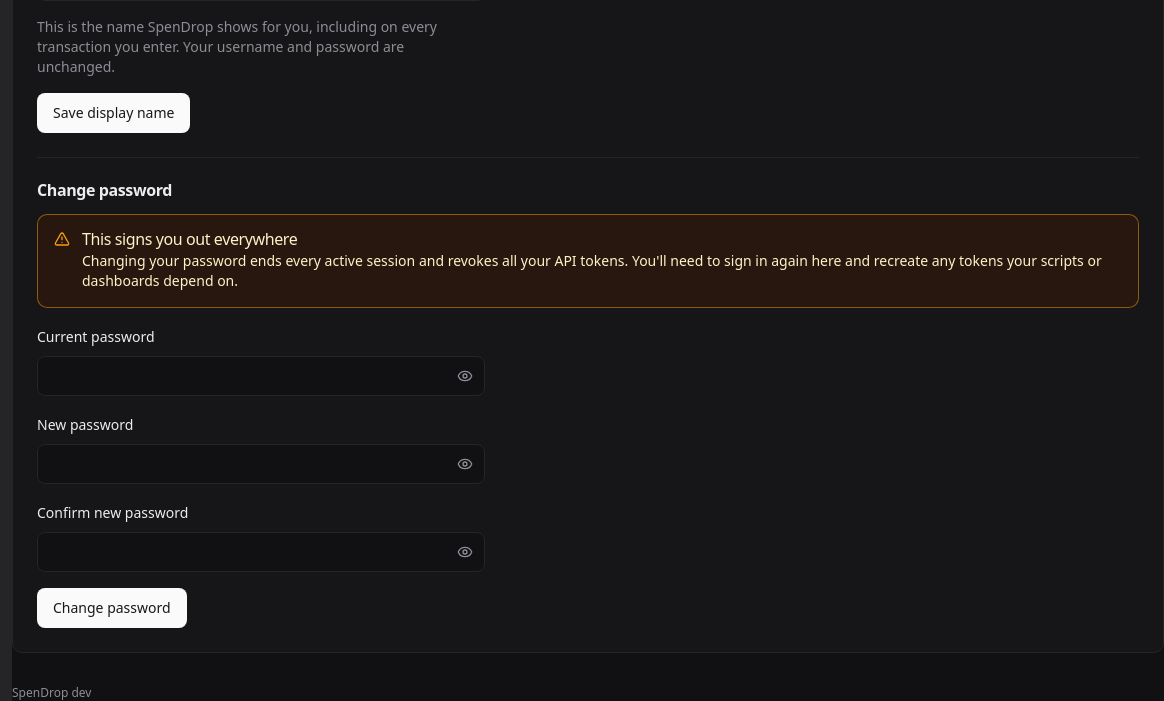
Test: Account tab — change password › shows a validation error when new and confirm do not match
(page scrolled)
In the password field labelled "Current password": (261, 376) [37,356,485,396], type "oldpass123"
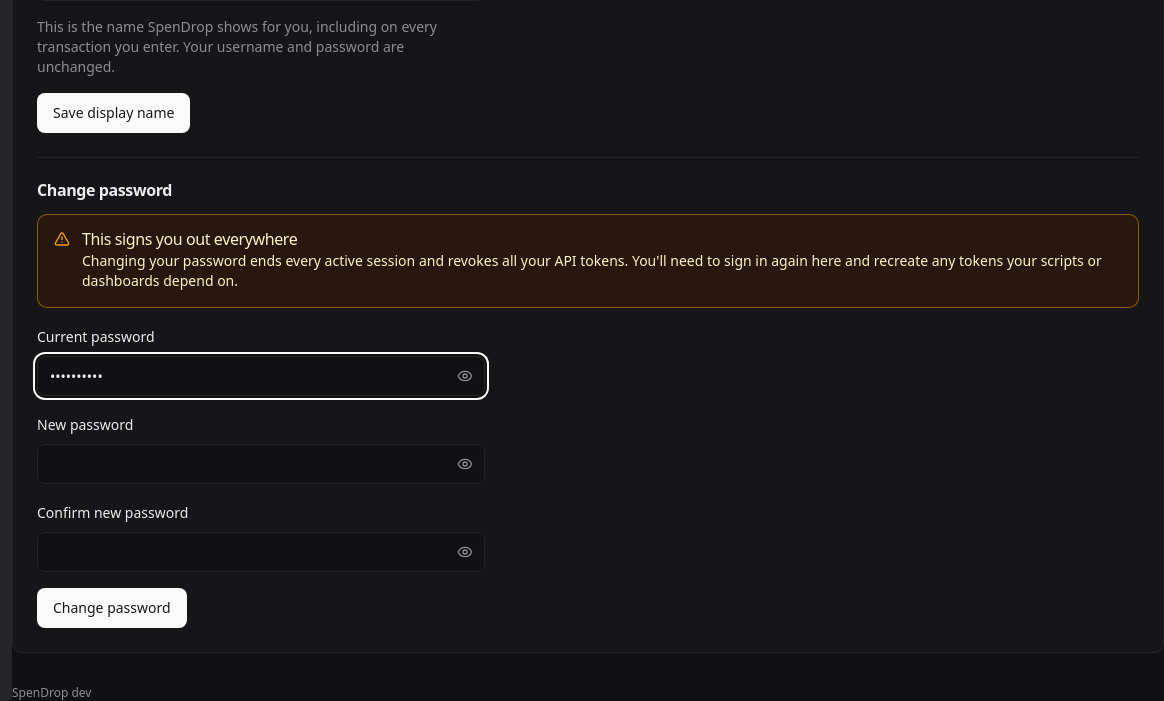
In the password field labelled "New password": (261, 464) [37,444,485,484], type "newpass123"
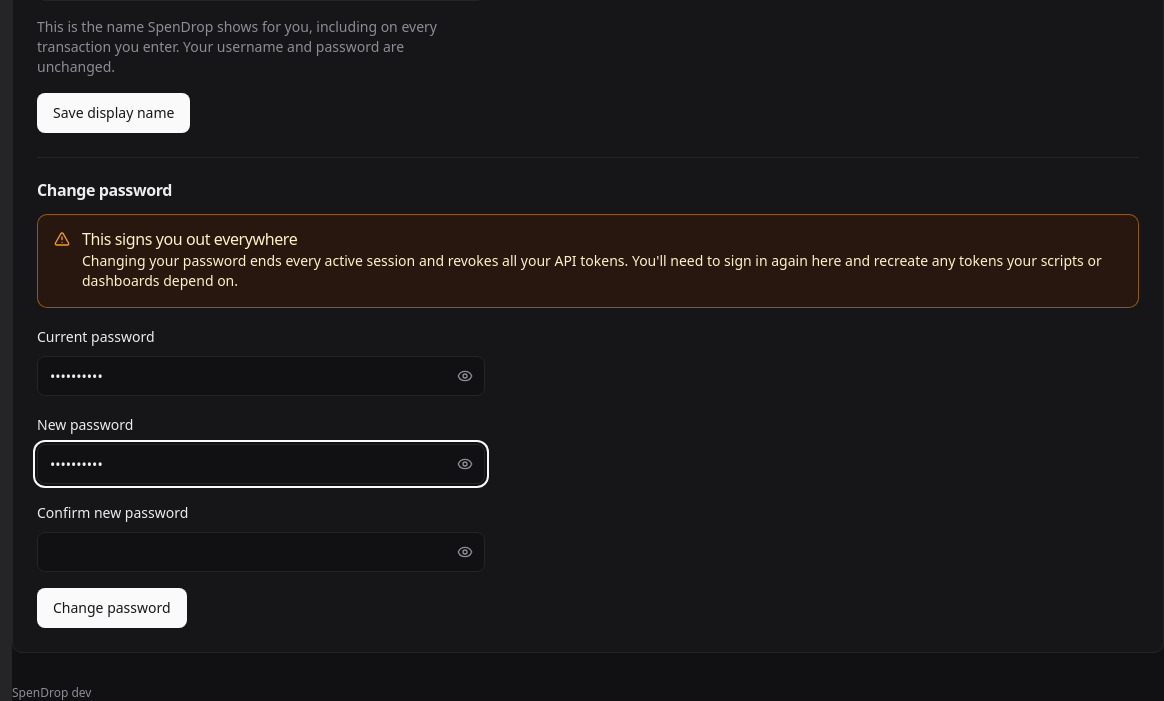
In the password field labelled "Confirm new password": (261, 552) [37,532,485,572], type "different123"
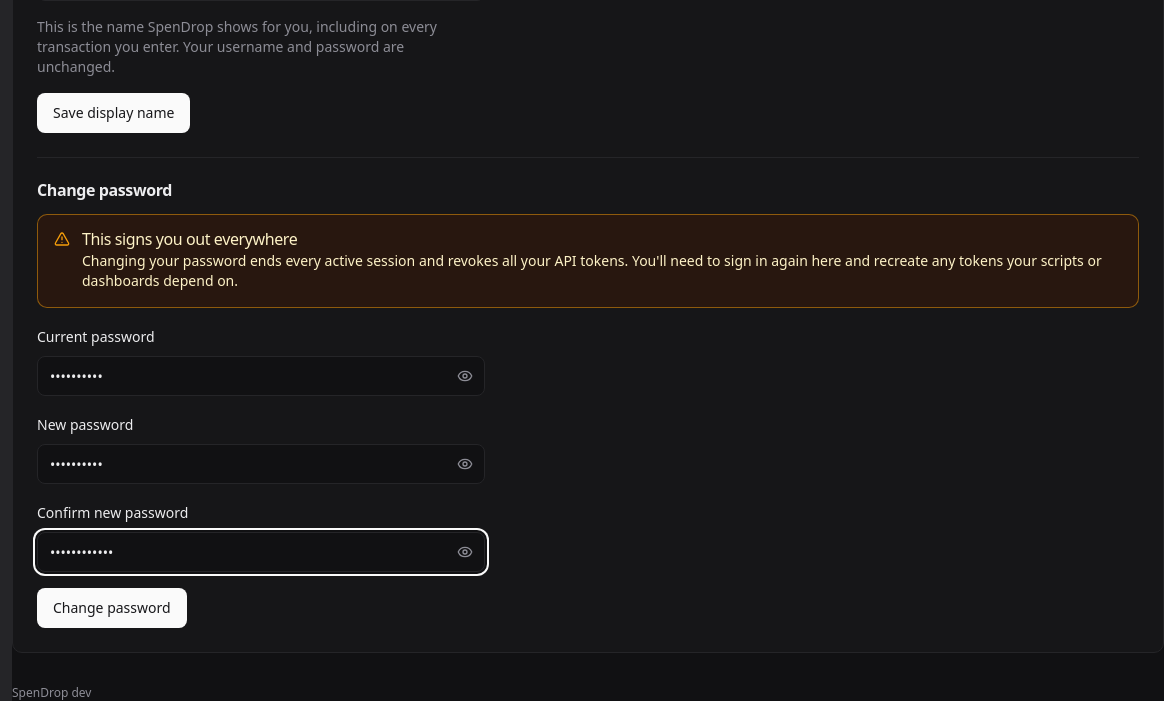
Click the button "Change password": (112, 608) [37,588,187,628]
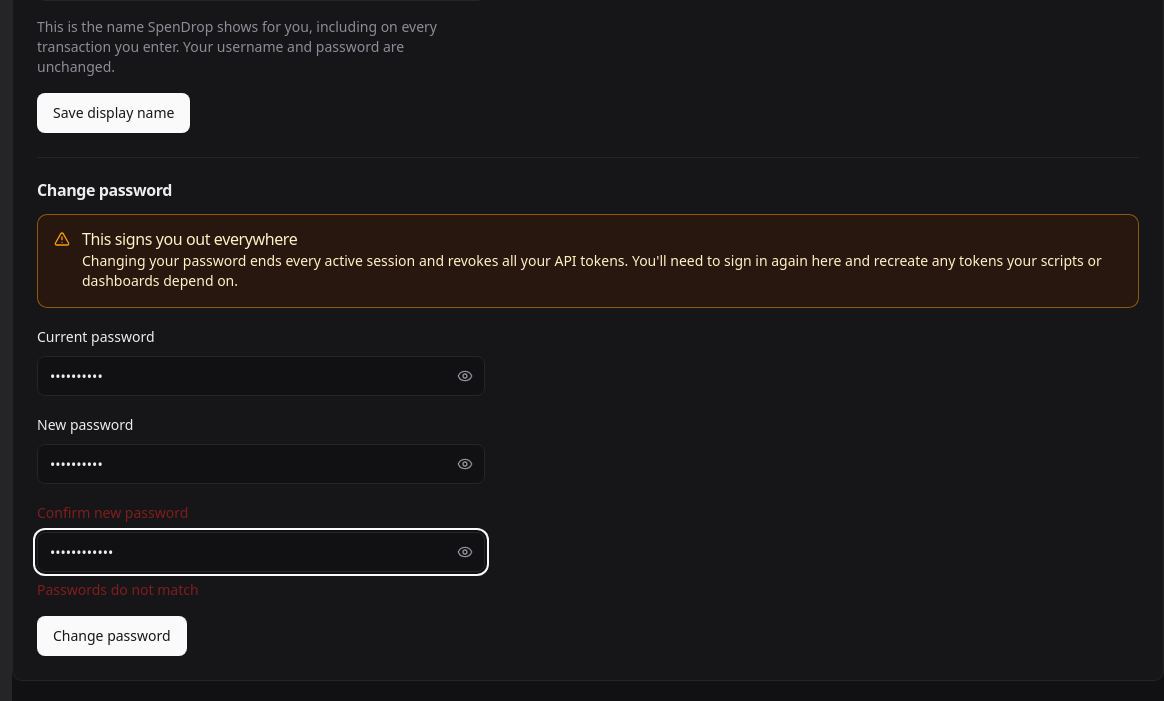
Result: the text "Passwords do not match" is shown at [37,580,199,599]
